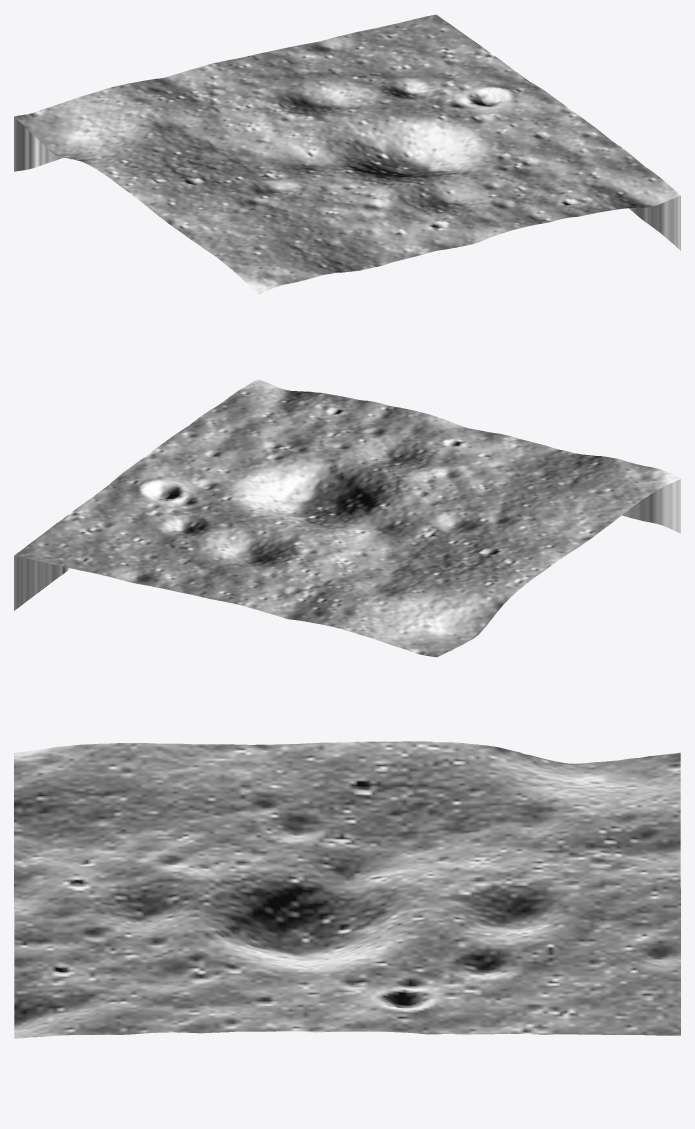
The picture shows the model from 3 angles, top to bottom: view 1: azimuth 30°, elevation 25°; view 2: azimuth 150°, elevation 25°; view 3: azimuth 270°, elevation 25°; orthographic projection. The views are drawn at different scales.
Size of the model in its own units: 639 by 104 by 639.
Materials: 1 (1 with a texture image).
